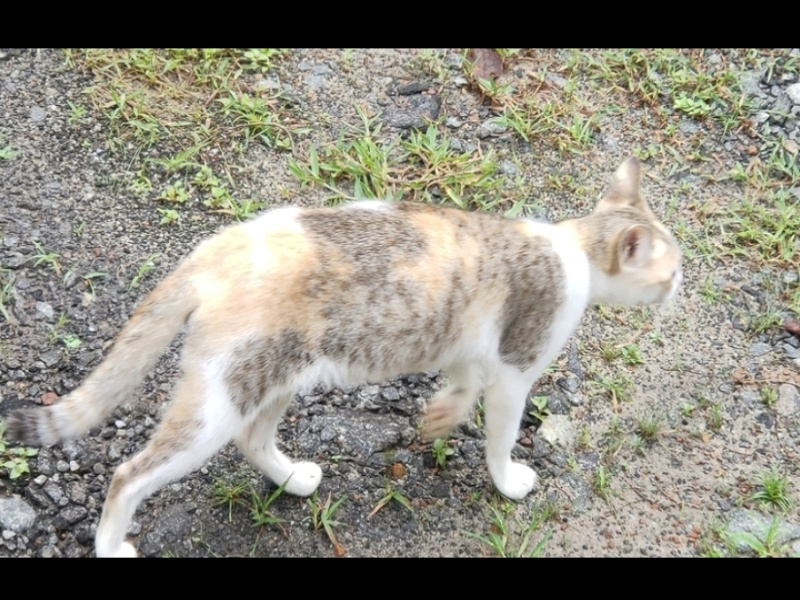cat: (6, 151, 696, 555)
